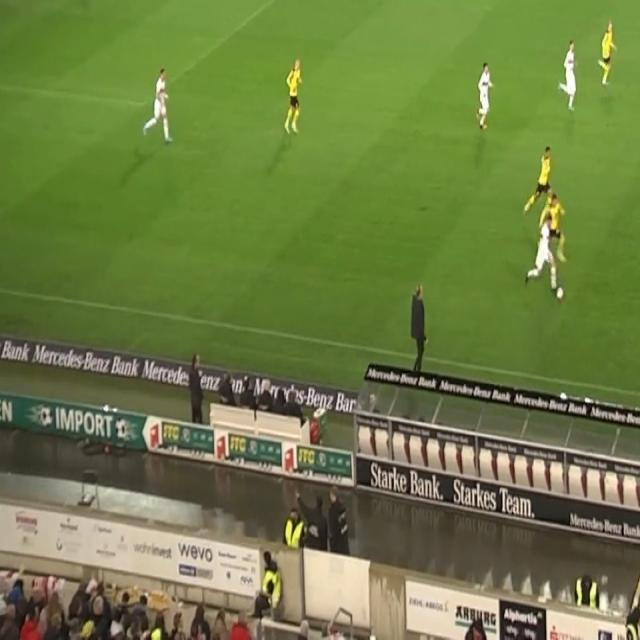ball: (555, 285, 564, 301)
